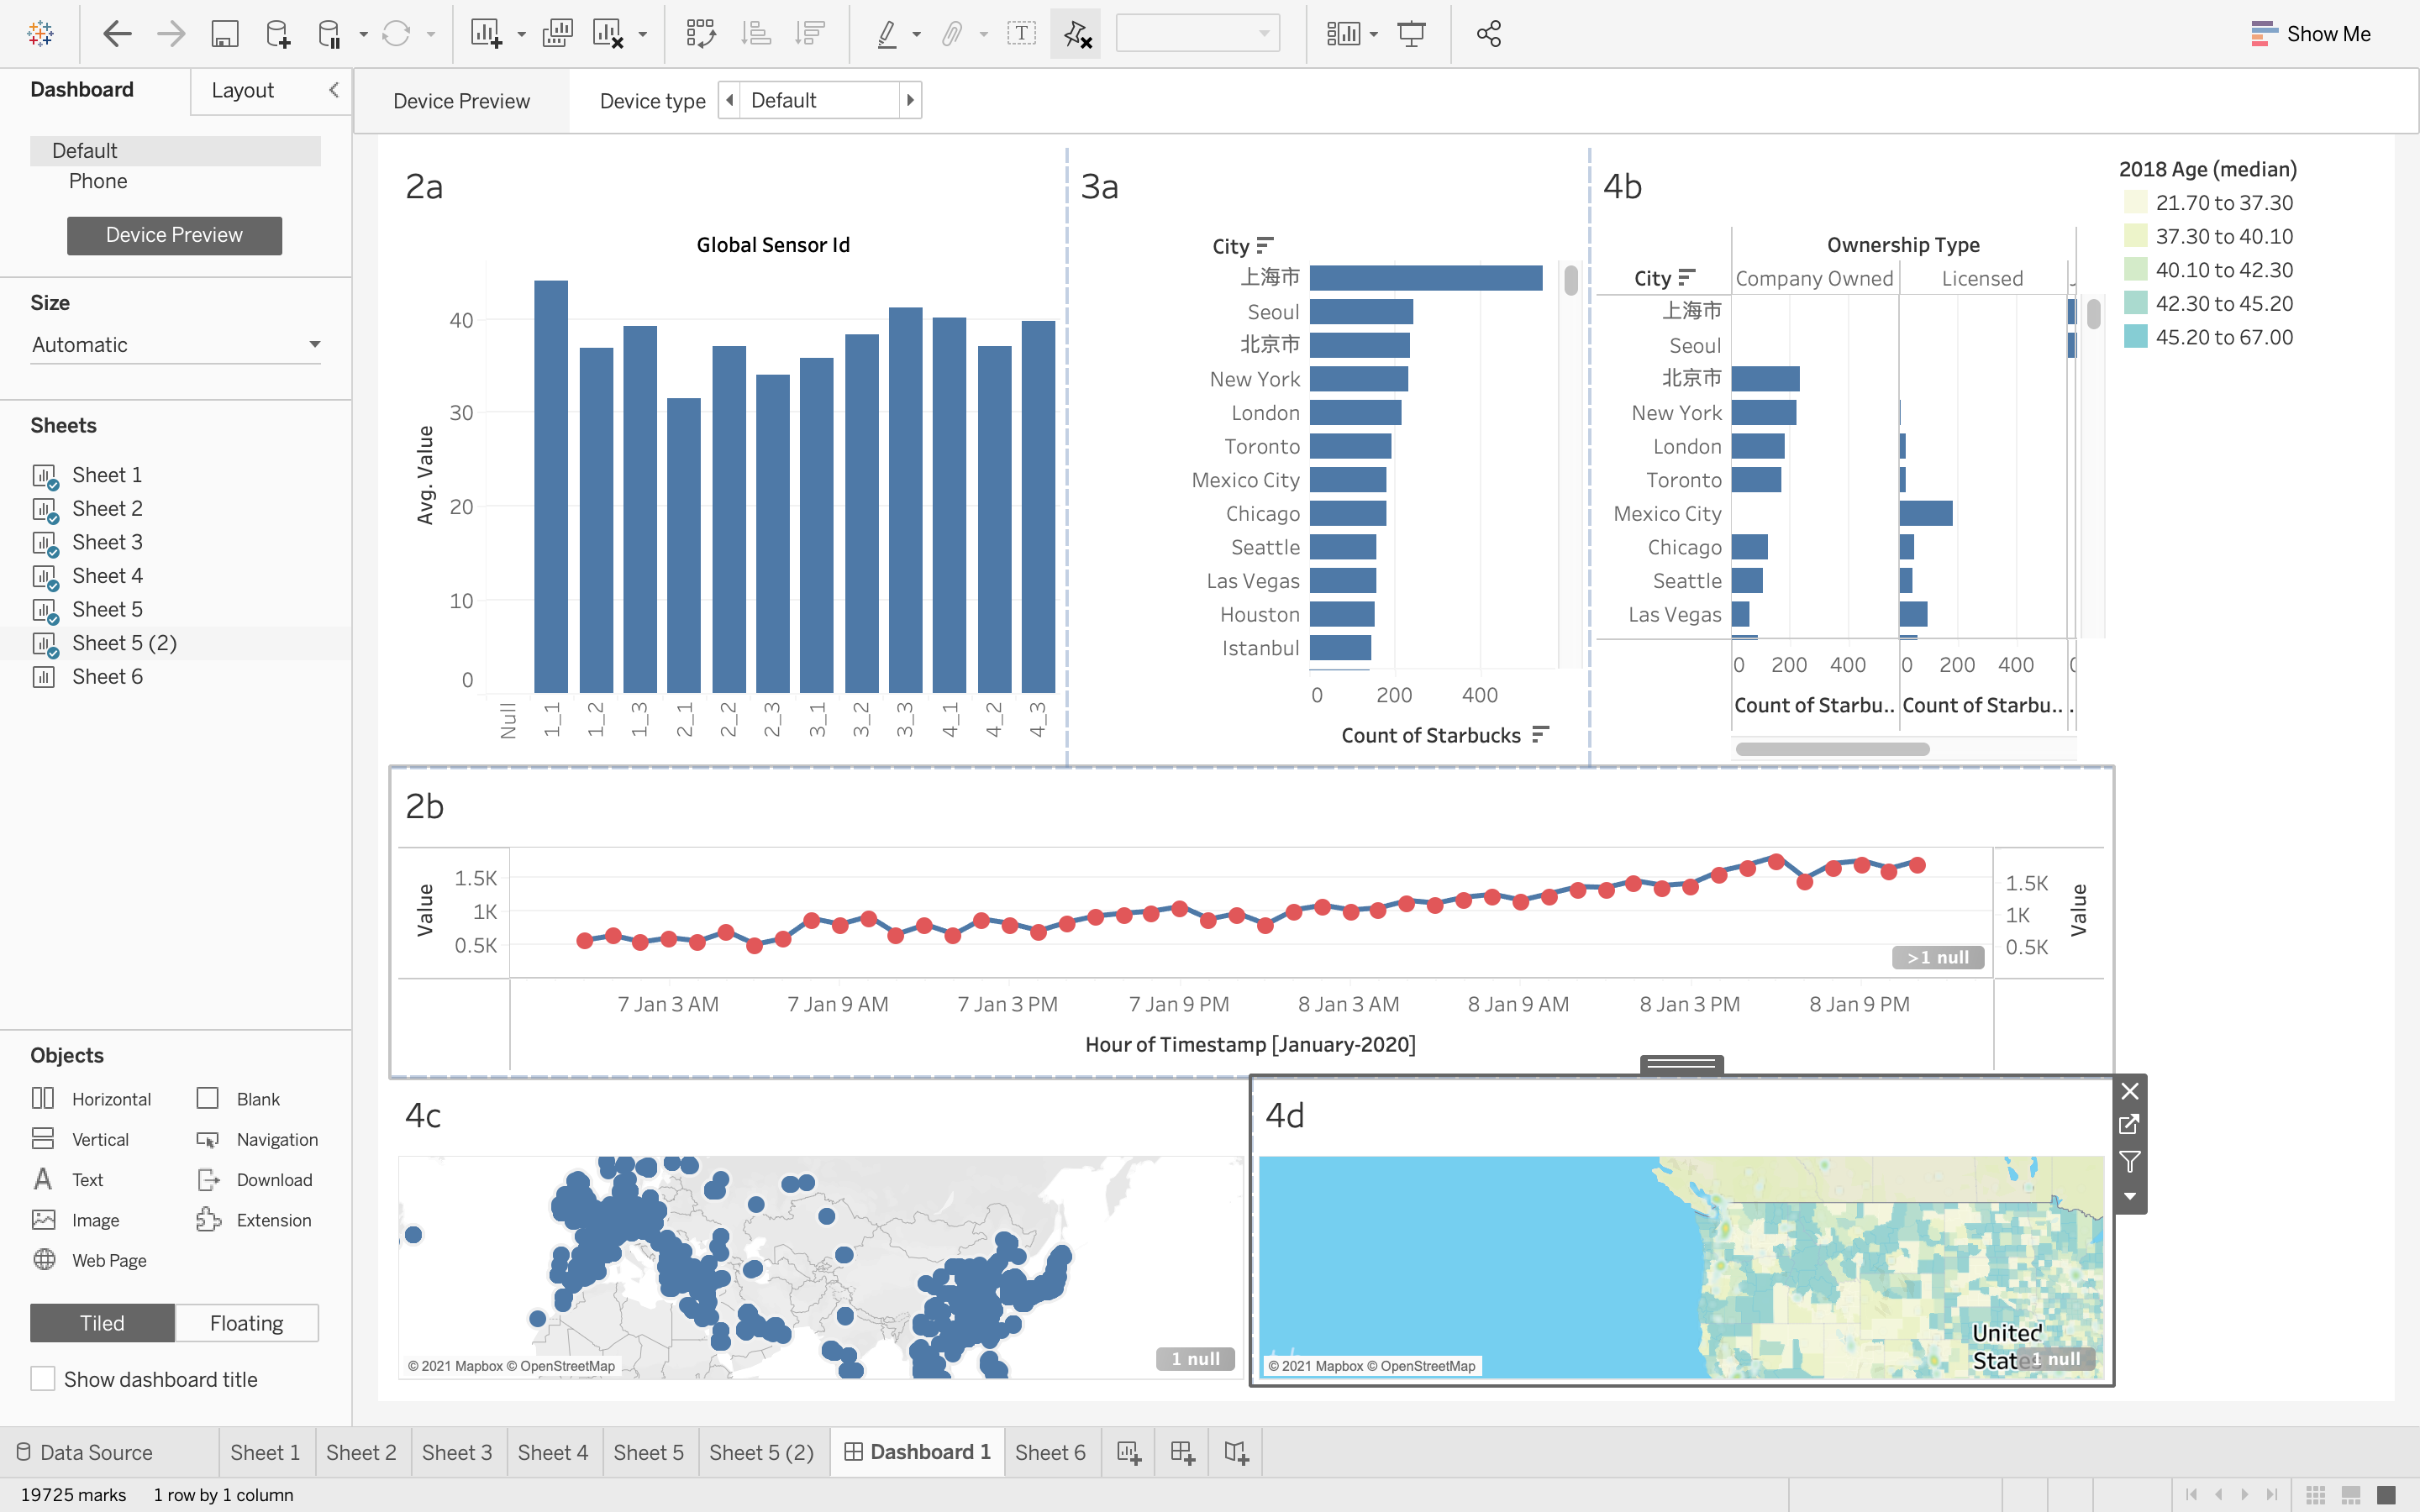

The dashboard page shown, as its layout file describes it:
{"tool":"tableau","page":{"name":"Dashboard 1","canvas":[1000,1000],"units":"permille","ordinal":0},"visuals":[{"type":"worksheet","box":[0,0,1000,1000]},{"type":"worksheet","param":"horz","box":[6.7,10.6,986.7,978.8]},{"type":"worksheet","box":[6.7,10.6,853.3,978.8]},{"type":"worksheet","title":"Sheet 1","mark":"Automatic","rows":["value"],"cols":["global_sensor_id"],"box":[6.7,10.6,335.1,489.4]},{"type":"worksheet","title":"Sheet 3","mark":"Automatic","rows":["City"],"cols":["Starbucks.csv_A7C6FE92607446BE99D2486F59ABD55F"],"box":[341.8,10.6,259.1,489.4]},{"type":"worksheet","title":"Sheet 4","mark":"Automatic","rows":["City"],"cols":["Ownership Type","Starbucks.csv_A7C6FE92607446BE99D2486F59ABD55F"],"box":[600.9,10.6,259.1,489.4]},{"type":"worksheet","param":"vert","box":[860,10.6,133.3,978.8]},{"type":"worksheet","title":"Sheet 5 (2)","mark":"Heatmap","rows":["Latitude"],"cols":["Longitude"],"box":[860,10.6,133.3,167.1]},{"type":"worksheet","title":"Sheet 2","mark":"Circle","rows":["value","value"],"cols":["timestamp"],"box":[6.7,500,853.3,244.7]},{"type":"worksheet","title":"Sheet 5","mark":"Automatic","rows":["Latitude"],"cols":["Longitude"],"box":[6.7,744.7,426.7,244.7]},{"type":"worksheet","title":"Sheet 5 (2)","mark":"Heatmap","rows":["Latitude"],"cols":["Longitude"],"box":[433.3,744.7,426.7,244.7]}]}

Visuals, with their boxes on the dashboard's canvas, which has no fixed pixel size, in thousandths of its width and height (x1, y1, x2, y2). These are canvas units, not pixel positions in the 2420x1512 screenshot, which may show the page scaled, cropped or inside an application window:
worksheet: x1=0 y1=0 x2=1000 y2=1000
worksheet: x1=7 y1=11 x2=993 y2=989
worksheet: x1=7 y1=11 x2=860 y2=989
"Sheet 1" worksheet: x1=7 y1=11 x2=342 y2=500
"Sheet 3" worksheet: x1=342 y1=11 x2=601 y2=500
"Sheet 4" worksheet: x1=601 y1=11 x2=860 y2=500
worksheet: x1=860 y1=11 x2=993 y2=989
"Sheet 5 (2)" worksheet (Heatmap marks): x1=860 y1=11 x2=993 y2=178
"Sheet 2" worksheet (Circle marks): x1=7 y1=500 x2=860 y2=745
"Sheet 5" worksheet: x1=7 y1=745 x2=433 y2=989
"Sheet 5 (2)" worksheet (Heatmap marks): x1=433 y1=745 x2=860 y2=989
